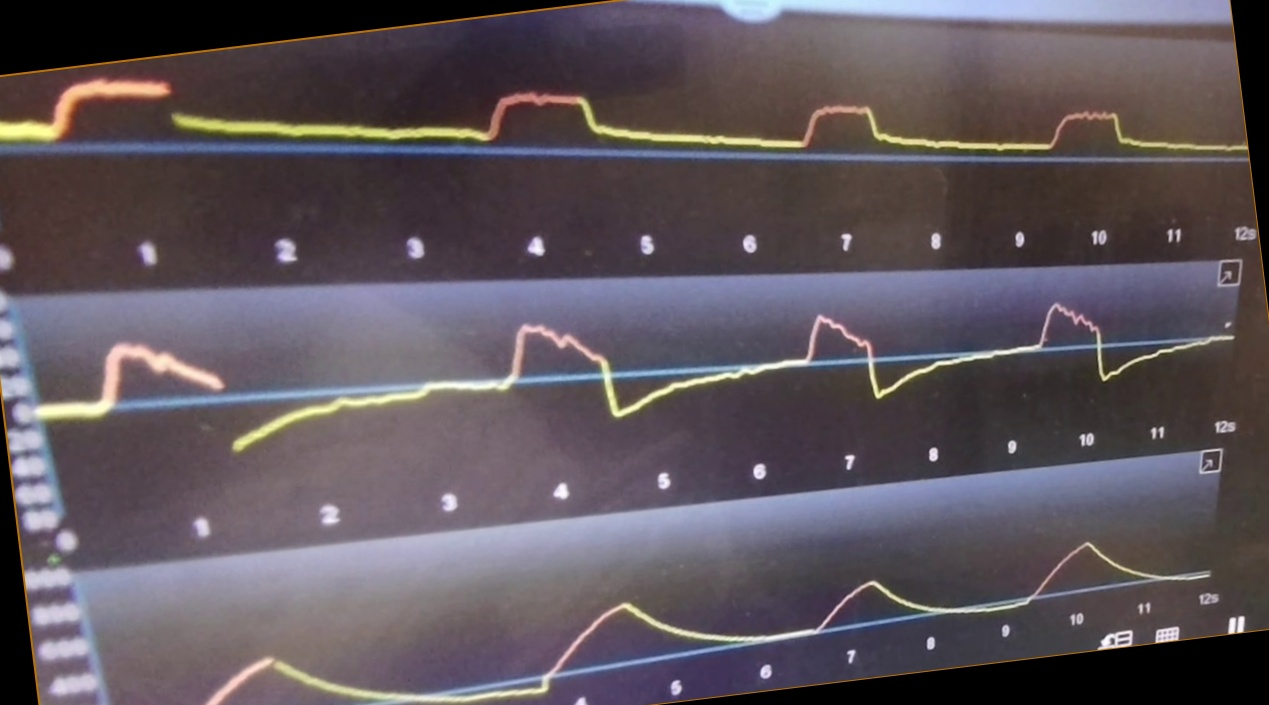Accumulation Flow: (40, 295, 1225, 447)
Volume: (129, 533, 1216, 703)
